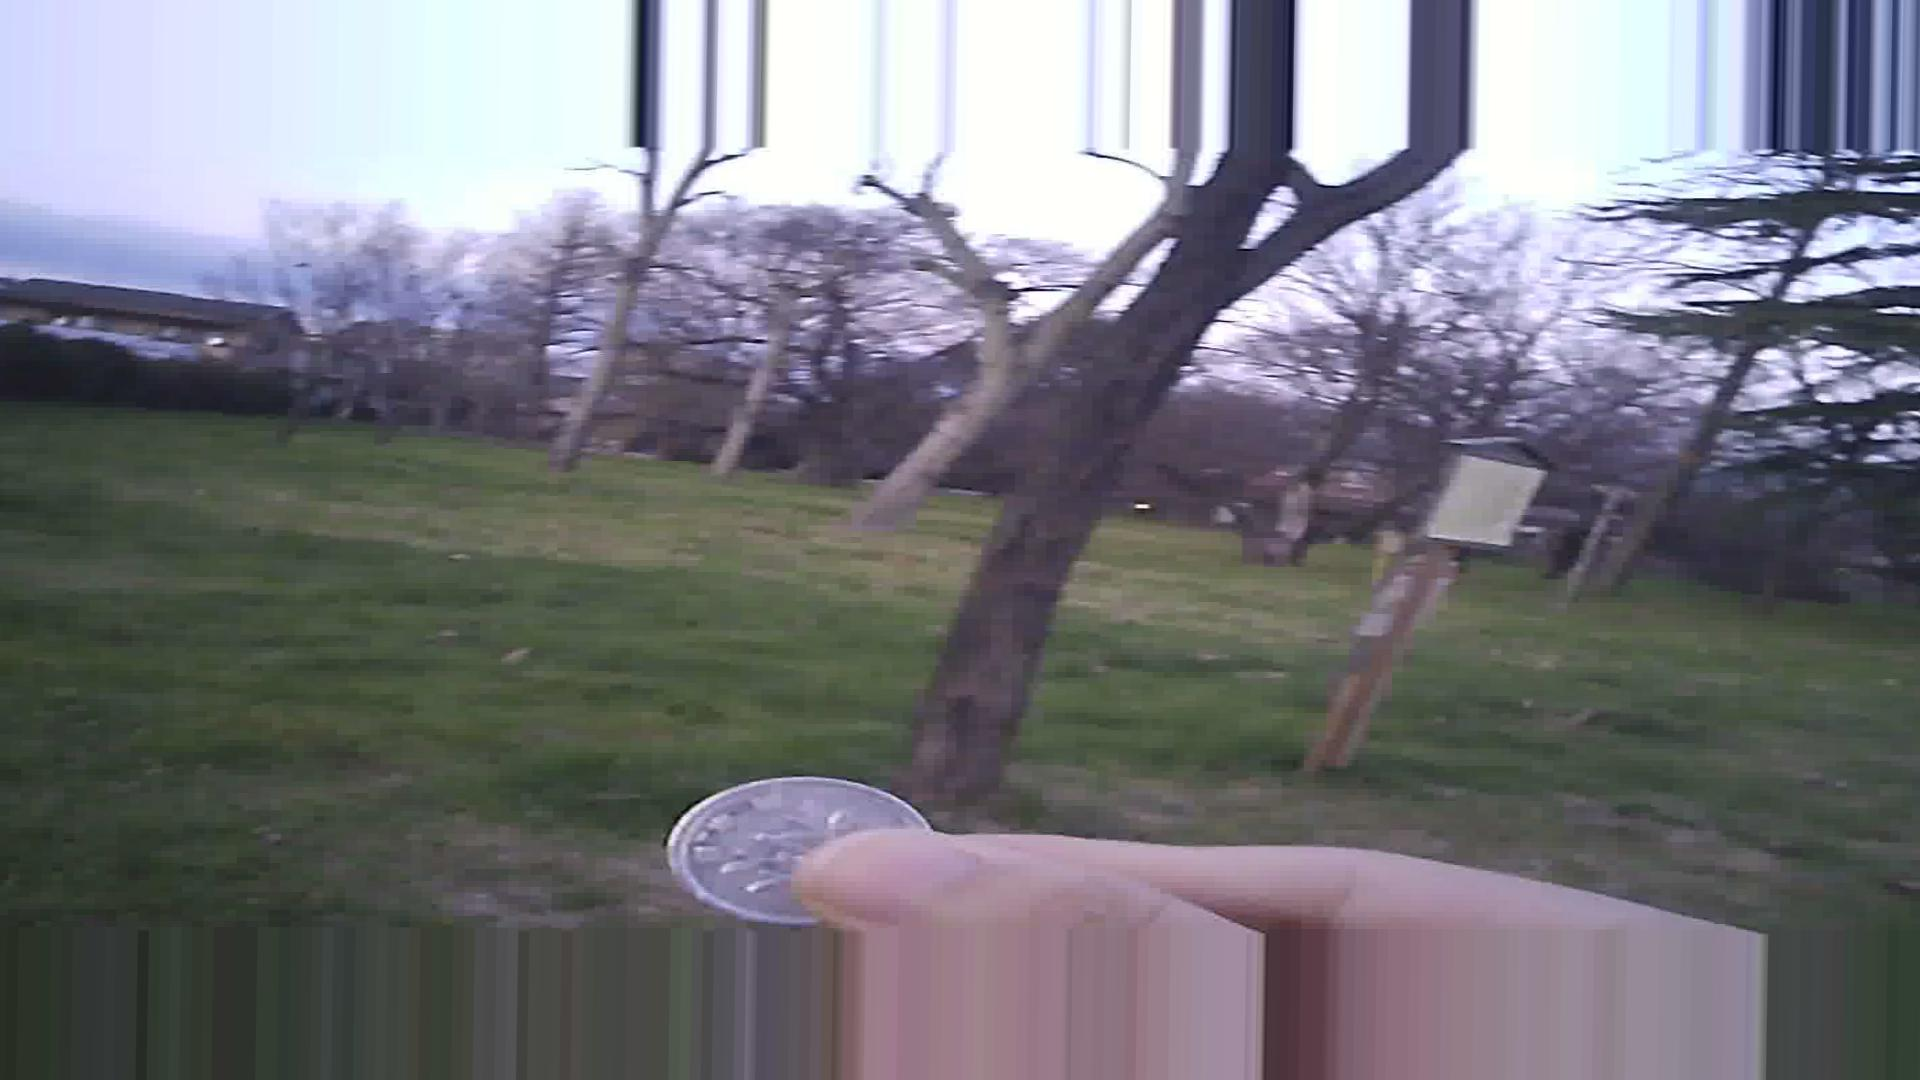1 Yen: (666, 761, 938, 907)
